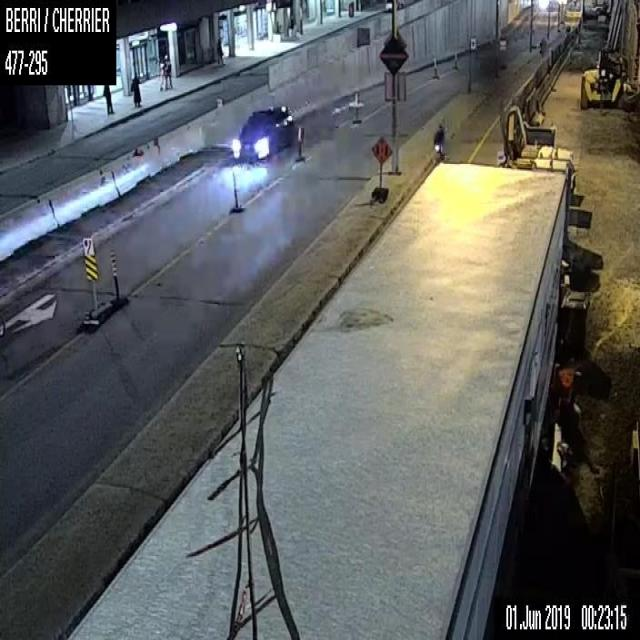construction: (369, 136, 392, 203), (109, 249, 128, 308), (230, 170, 244, 213), (294, 127, 304, 163), (351, 90, 361, 124), (452, 52, 459, 69), (432, 56, 437, 79)
cyclist: (433, 124, 449, 159)
pedestrian: (157, 52, 172, 88), (129, 70, 141, 106), (101, 84, 113, 115), (215, 36, 225, 64)
vehicle: (232, 104, 293, 160)
